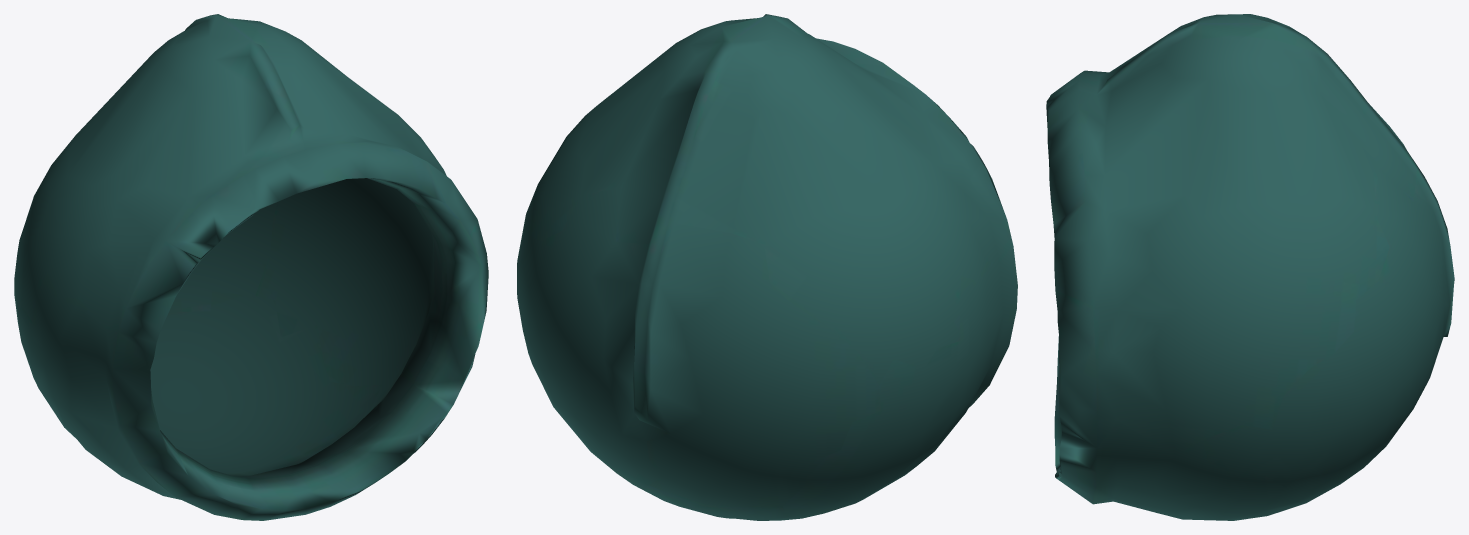
File: rogue-hood.glb
3 renders of one model, left to right at view 1: azimuth 30°, elevation 25°; view 2: azimuth 150°, elevation 25°; view 3: azimuth 270°, elevation 25°, orthographic. The views are drawn at different scales.
Visible parts, largest first — view 1: hood; view 2: hood; view 3: hood.
Boxes of the visible parts, left/top/right/bottom form: hood: left=14, top=14, right=488, bottom=520; hood: left=517, top=14, right=1017, bottom=520; hood: left=1046, top=14, right=1454, bottom=520.
Size of the model in its own units: 0.5687 by 0.591 by 0.476.
1 material, 1 textured.
